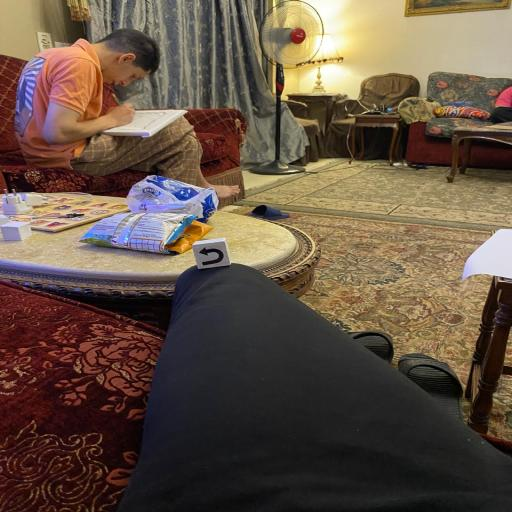Undo: (191, 238, 231, 266)
